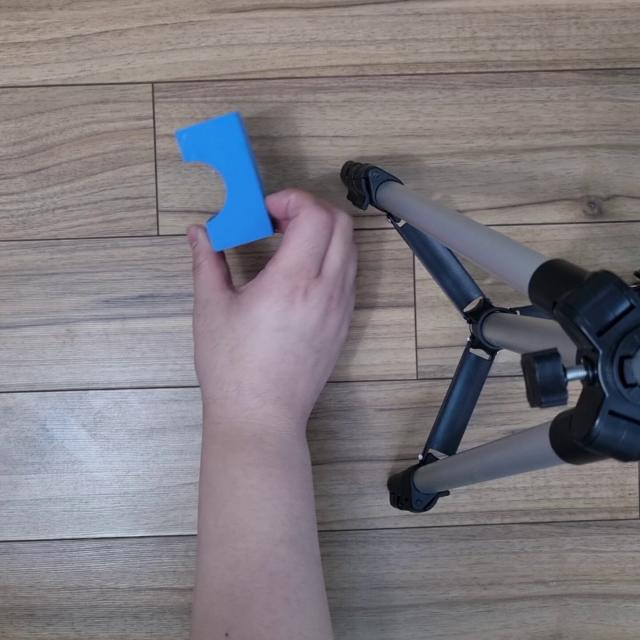block: (171, 104, 279, 264)
hand: (180, 177, 370, 429)
